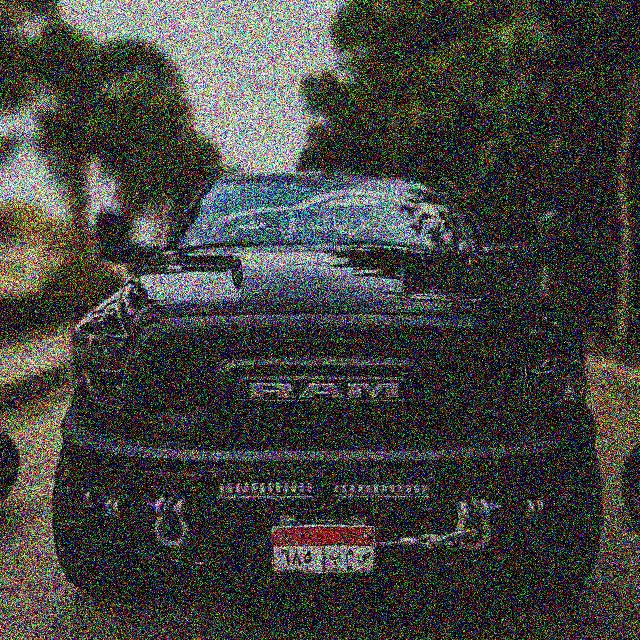License Plate: (270, 523, 378, 576)
